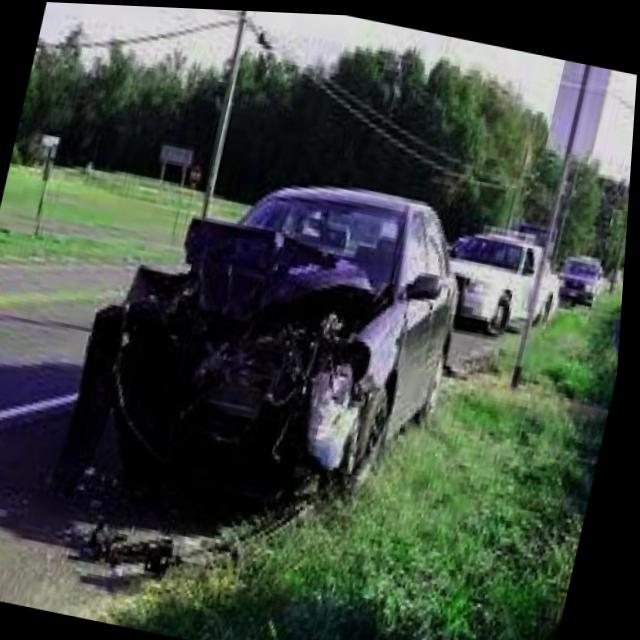Car-Damage: (55, 204, 420, 553)
